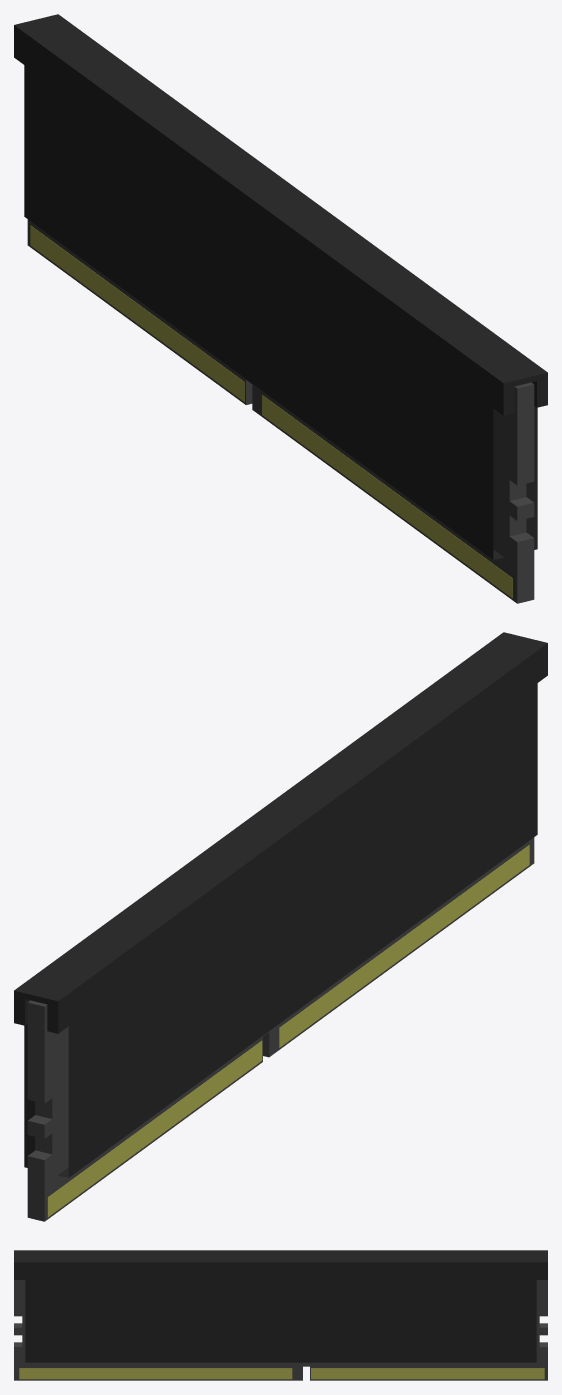
The model's file is RAM.glb.
The picture shows the model from 3 angles, top to bottom: view 1: azimuth 30°, elevation 25°; view 2: azimuth 150°, elevation 25°; view 3: azimuth 270°, elevation 25°; orthographic projection. The views are drawn at different scales.
Visible parts, largest first — view 1: RAM; view 2: RAM; view 3: RAM.
Boxes of the visible parts, x1=… form: RAM: x1=14, y1=14, x2=547, y2=603; RAM: x1=14, y1=632, x2=547, y2=1221; RAM: x1=14, y1=1250, x2=547, y2=1380.
Bounding box in the file's own units: 0.069 × 0.3328 × 1.32.
